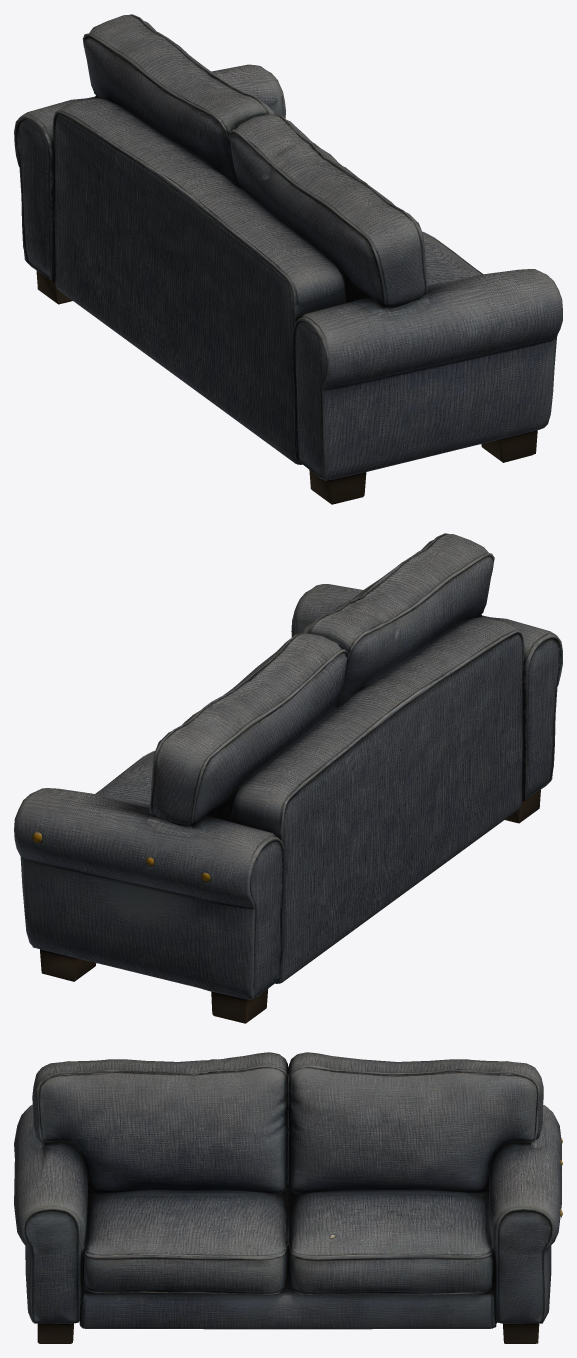
File: couch.glb
3 views of the same model, one above another, from view 1: azimuth 30°, elevation 25°; view 2: azimuth 150°, elevation 25°; view 3: azimuth 270°, elevation 25° (orthographic). The views are drawn at different scales.
Parts seen in each view (by area): view 1: tripo_node_2459caf9-0c32-4c17-a716-2fa0be5920b2; view 2: tripo_node_2459caf9-0c32-4c17-a716-2fa0be5920b2; view 3: tripo_node_2459caf9-0c32-4c17-a716-2fa0be5920b2.
Part boxes in pixels (x1,y1,x2,y2): tripo_node_2459caf9-0c32-4c17-a716-2fa0be5920b2: (14, 14, 562, 504); tripo_node_2459caf9-0c32-4c17-a716-2fa0be5920b2: (14, 533, 562, 1023); tripo_node_2459caf9-0c32-4c17-a716-2fa0be5920b2: (14, 1052, 562, 1343).
Size of the model in its own units: 0.9831 by 1 by 2.16.
Materials: 1 (1 with a texture image).
